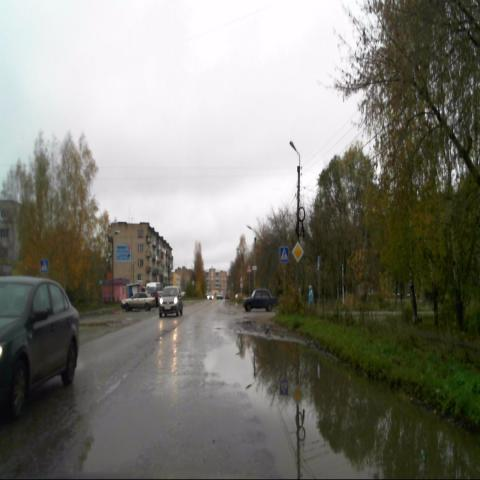2_1: (292, 241, 304, 261)
5_19_1: (278, 247, 288, 264), (40, 258, 48, 274)
